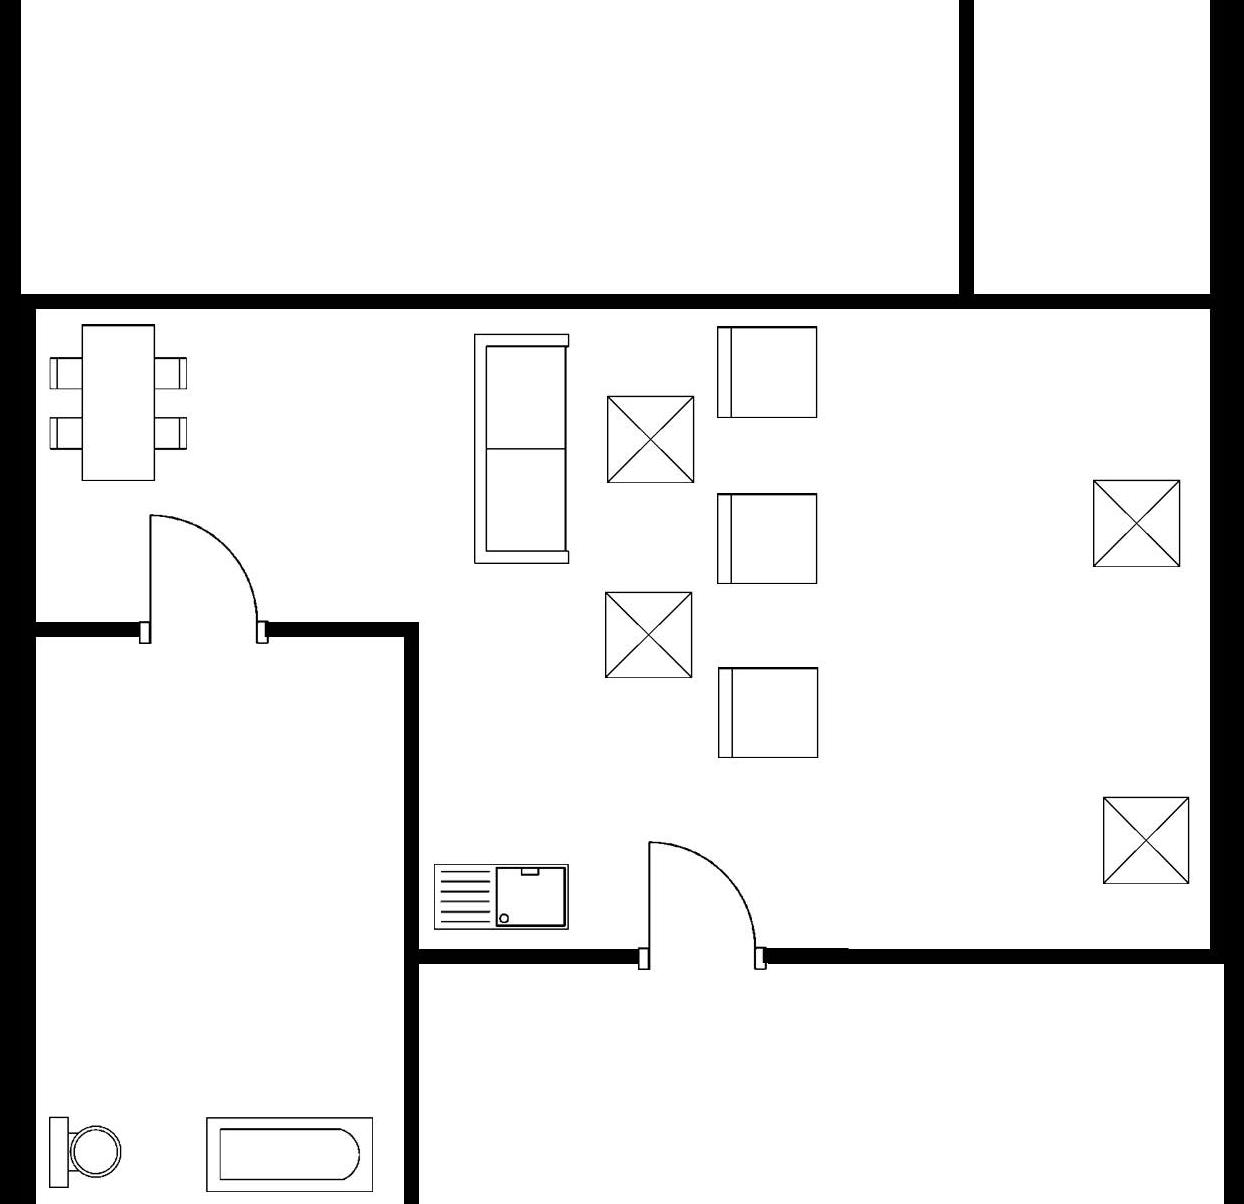dining_table: (44, 315, 195, 494)
sink: (427, 855, 579, 936)
sofa: (465, 323, 576, 571)
toilet: (40, 1110, 129, 1195)
tub: (197, 1107, 383, 1198)
